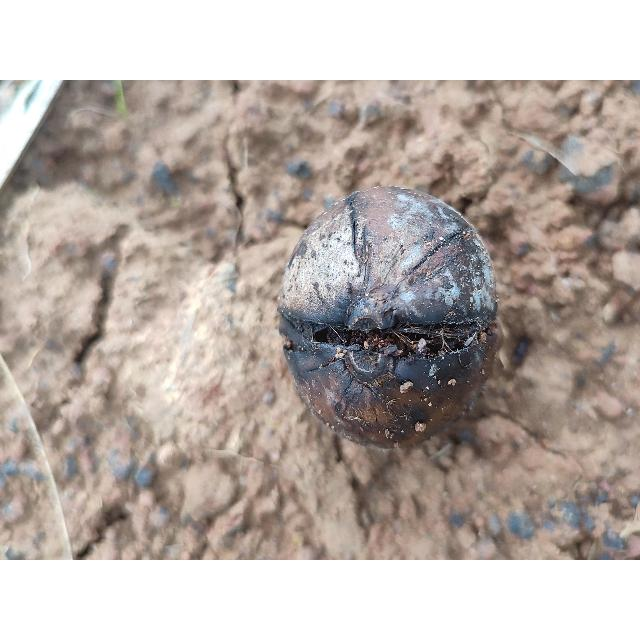damaged: (277, 187, 500, 447)
